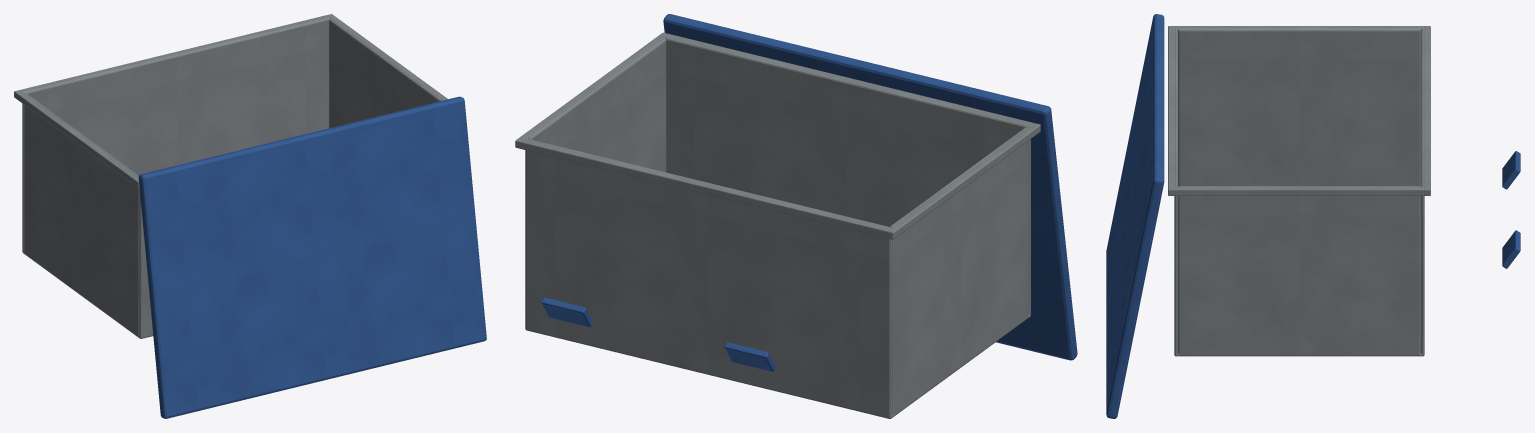
Rendered from lootbox_bin_open.glb.
The picture shows the model from 3 angles, left to right: view 1: azimuth 30°, elevation 25°; view 2: azimuth 150°, elevation 25°; view 3: azimuth 270°, elevation 25°; orthographic projection. The views are drawn at different scales.
Parts seen in each view (by area): view 1: lid, bin_front, bin_left, bin_right, rim_l, rim_f, bin_back, rim_r; view 2: bin_front, bin_back, bin_left, lid, bin_right, rim_f, rim_l, rim_b, rim_r, bin_floor, clip1, clip0; view 3: bin_right, bin_left, lid, rim_r, rim_b, rim_f, bin_back, bin_front, rim_l, bin_floor, clip1, clip0.
Part boxes in pixels (box(x1,y1,x2,y2)): lid: box(138, 96, 486, 418); bin_front: box(22, 18, 330, 251); bin_left: box(24, 93, 139, 335); bin_right: box(329, 19, 442, 128); rim_l: box(17, 92, 138, 185); rim_f: box(14, 14, 334, 98); bin_back: box(139, 188, 153, 338); rim_r: box(329, 16, 447, 100); bin_front: box(525, 138, 891, 418); bin_back: box(665, 37, 1030, 316); bin_left: box(890, 127, 1028, 415); lid: box(663, 14, 1077, 360); bin_right: box(528, 38, 666, 172); rim_f: box(515, 138, 896, 239); rim_l: box(890, 125, 1037, 236); rim_b: box(659, 32, 1040, 134); rim_r: box(519, 35, 665, 139); bin_floor: box(525, 315, 1030, 418); clip1: box(541, 297, 592, 327); clip0: box(724, 342, 775, 371); bin_right: box(1178, 186, 1420, 355); bin_left: box(1178, 29, 1420, 186); lid: box(1106, 14, 1164, 418); rim_r: box(1175, 186, 1423, 195); rim_b: box(1168, 26, 1175, 195); rim_f: box(1423, 26, 1430, 195); bin_back: box(1174, 29, 1177, 356); bin_front: box(1421, 29, 1424, 355); rim_l: box(1175, 26, 1423, 29); bin_floor: box(1174, 353, 1424, 356); clip1: box(1502, 230, 1520, 268); clip0: box(1502, 151, 1520, 189).
Bounding box in the file's own units: 0.63 × 0.4245 × 0.6618.
2 materials, 2 textured.
